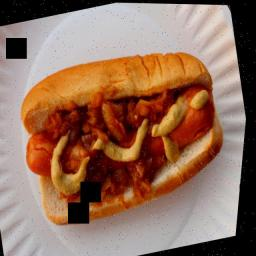hotdog: (3, 33, 245, 232)
